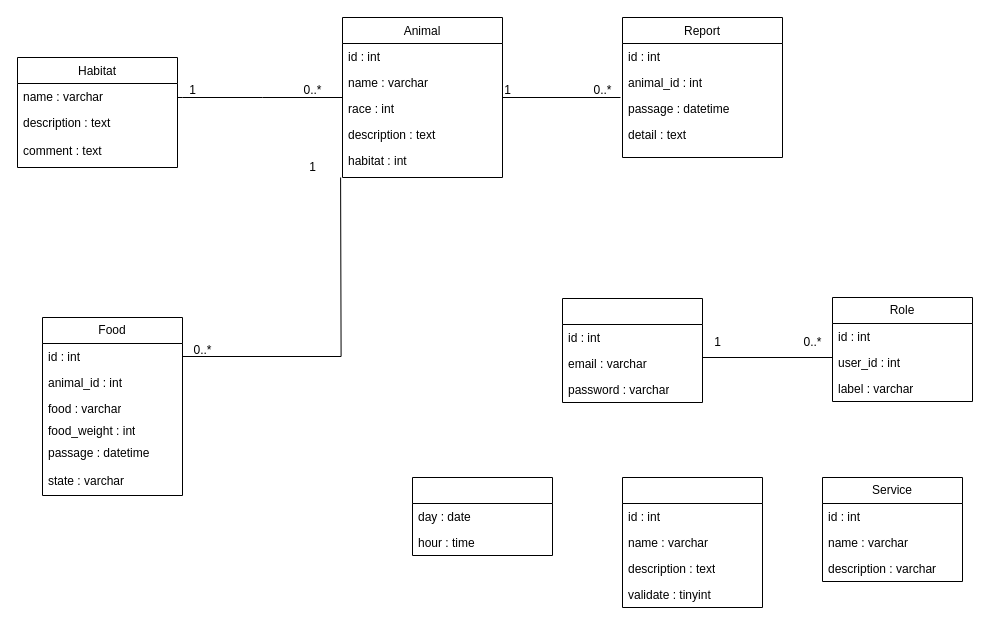
The diagram is 990 pixels wide and 628 high, and some of its shapes have lost their labels. Each missing label, with the box of its shape:
Review: (622, 476, 762, 608)
Schedule: (412, 476, 552, 556)
User: (562, 298, 702, 402)
